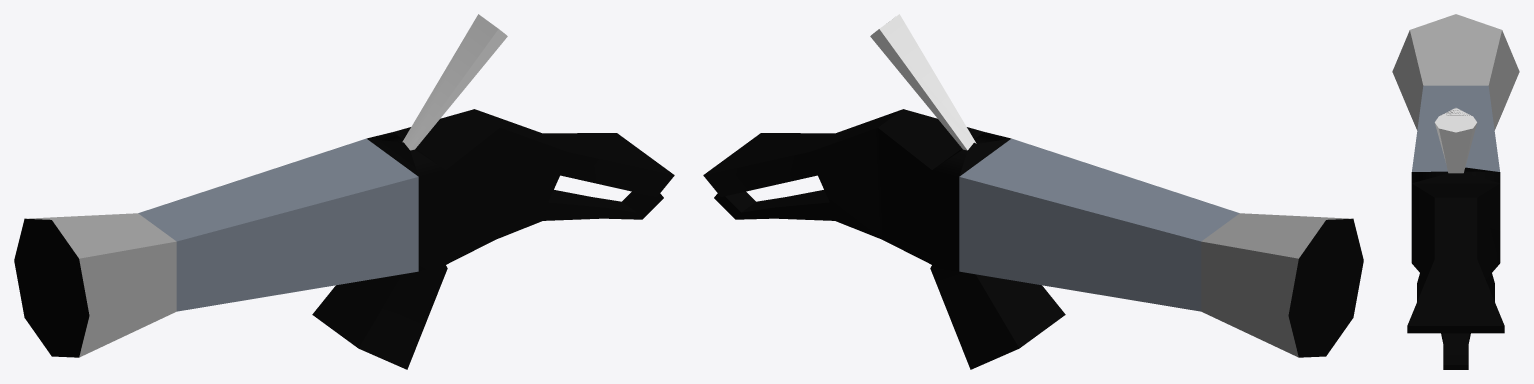
File: FlameSpray_v1.fbx
3 views of the same model, side by side, from view 1: azimuth 30°, elevation 25°; view 2: azimuth 150°, elevation 25°; view 3: azimuth 270°, elevation 25° (orthographic). The views are drawn at different scales.
Parts seen in each view (by area): view 1: pCube1; view 2: pCube1; view 3: pCube1.
Boxes of the visible parts, left/top/right/bottom form: pCube1: left=14, top=14, right=674, bottom=369; pCube1: left=703, top=14, right=1363, bottom=369; pCube1: left=1392, top=14, right=1519, bottom=369.
Bounding box in the file's own units: 13.36 × 6.6 × 2.88.
